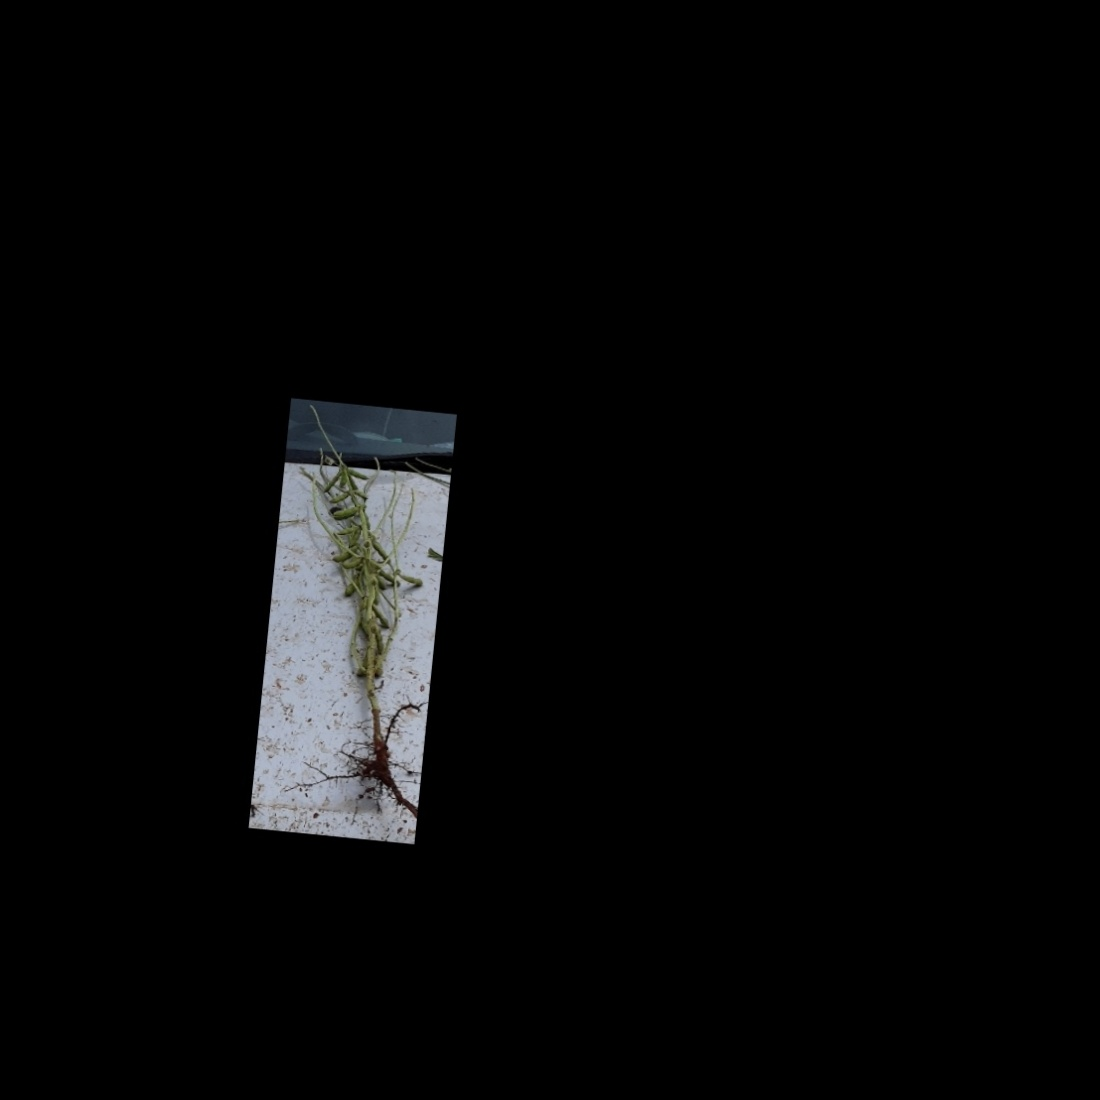pod: (366, 601, 394, 630), (320, 463, 343, 497), (328, 502, 360, 525), (370, 623, 391, 656), (337, 553, 365, 575), (331, 521, 360, 542), (340, 465, 370, 483)
soy: (258, 443, 443, 801)
